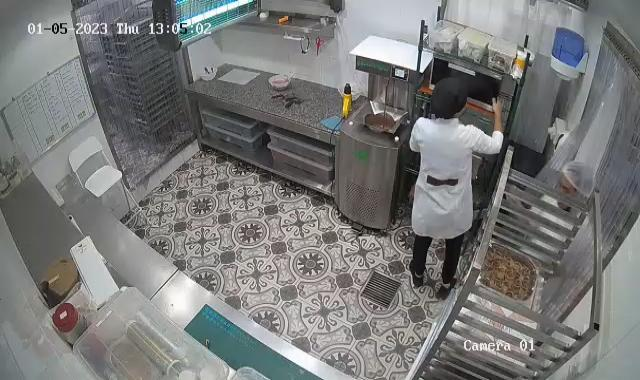no_hairnet: (430, 74, 468, 122)
